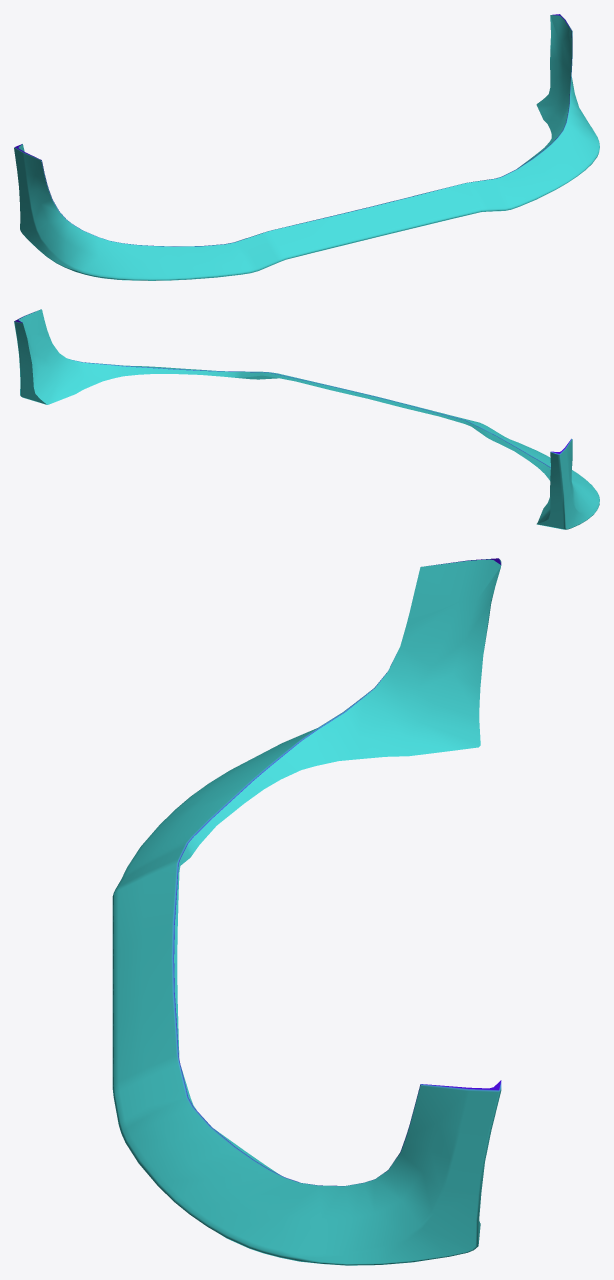
The model's file is Car_Mini_CountrymanJCW_2017_Splitter_SetB_AltC.fbx.
3 renders of one model, top to bottom at view 1: azimuth 30°, elevation 25°; view 2: azimuth 150°, elevation 25°; view 3: azimuth 270°, elevation 25°, orthographic. The views are drawn at different scales.
Visible parts, largest first — view 1: Splitter 6; view 2: Splitter 6; view 3: Splitter 6.
Part boxes in pixels (x1,y1,x2,y2): Splitter 6: [14, 14, 599, 280]; Splitter 6: [14, 309, 599, 529]; Splitter 6: [112, 558, 501, 1265].
Size of the model in its own units: 1.76 by 0.287 by 0.5425.
